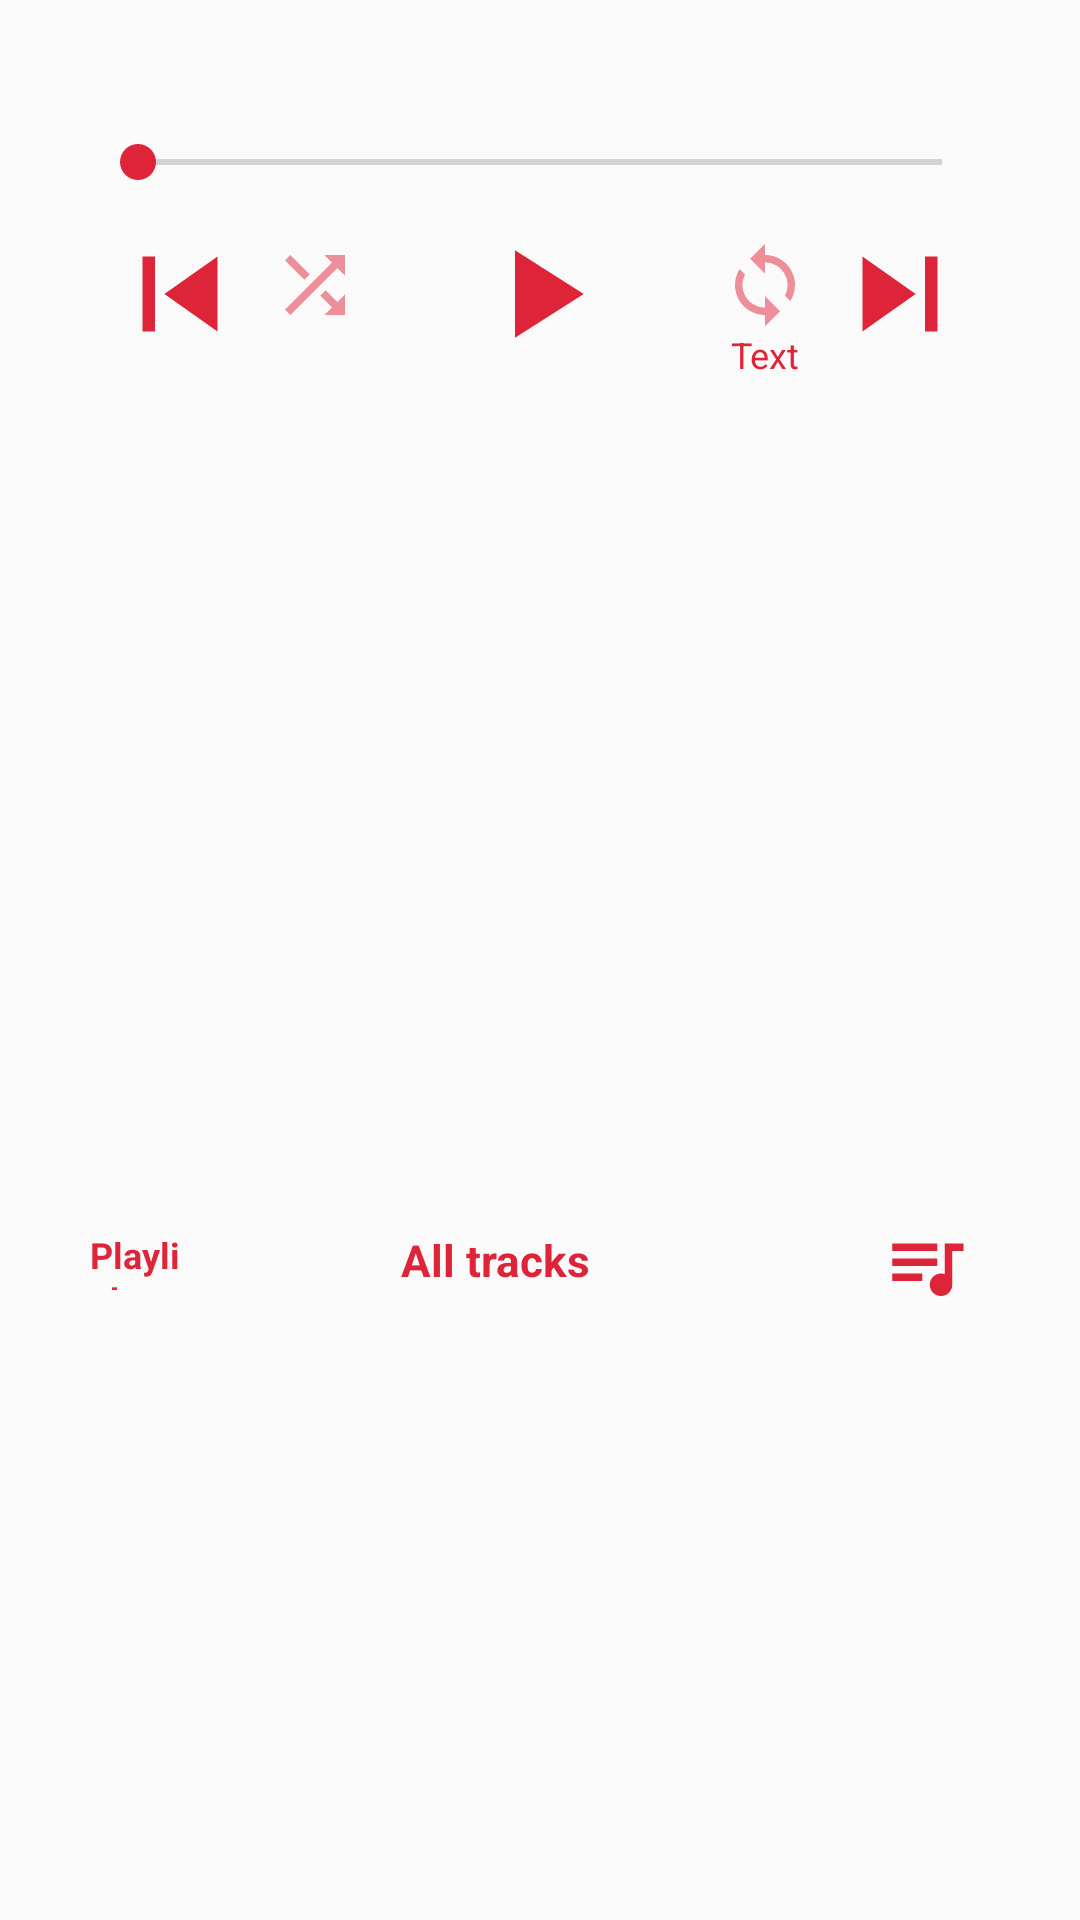

Point at icon controls on the screen. Image size 1080px×1920px, points as point (x, y).
loop faded: point (765, 285)
play arrow: point (549, 294)
queue music: point (928, 1269)
shuffle faded: point (315, 285)
skip next: point (900, 294)
skip previous: point (180, 294)
